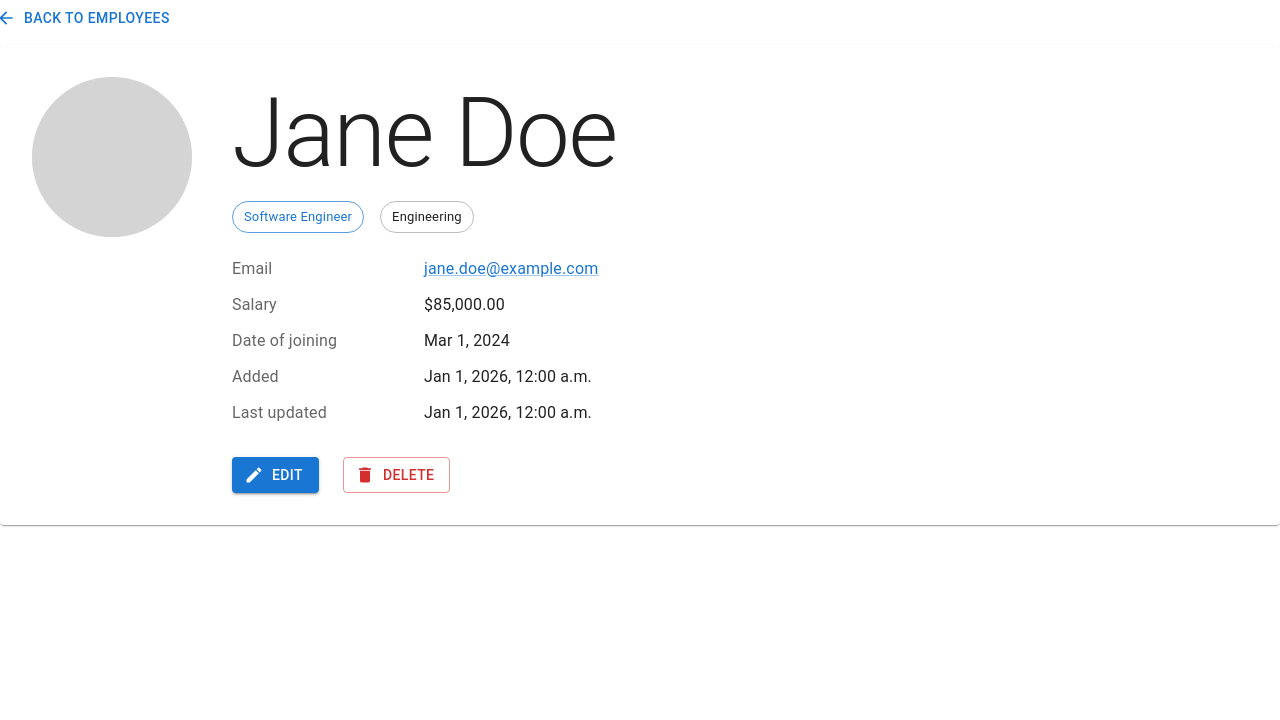
EmployeeDetailsPage: deleting › deletes after confirmation, says so, and returns to the list without a "not found" flash
Click the button "Delete".
click(397, 475)  # box x1=343 y1=456 x2=450 y2=493
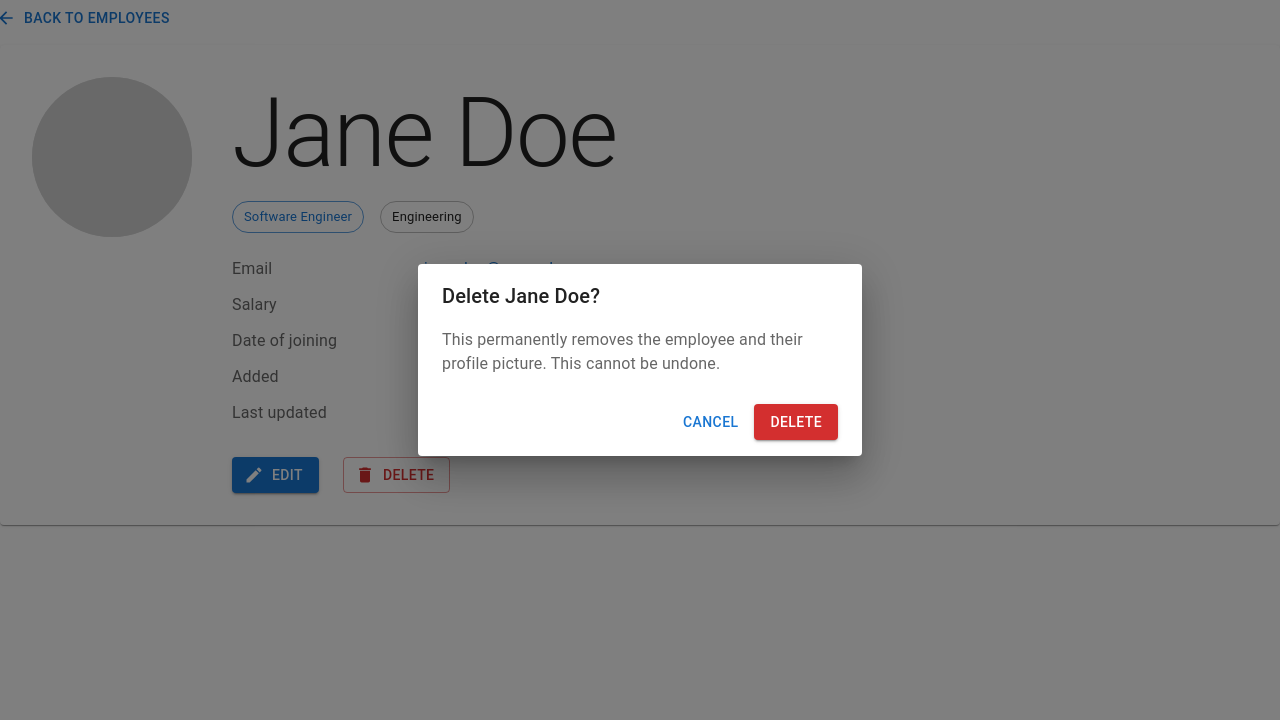
Click the button "Delete".
click(796, 422)  # box x1=754 y1=404 x2=838 y2=440
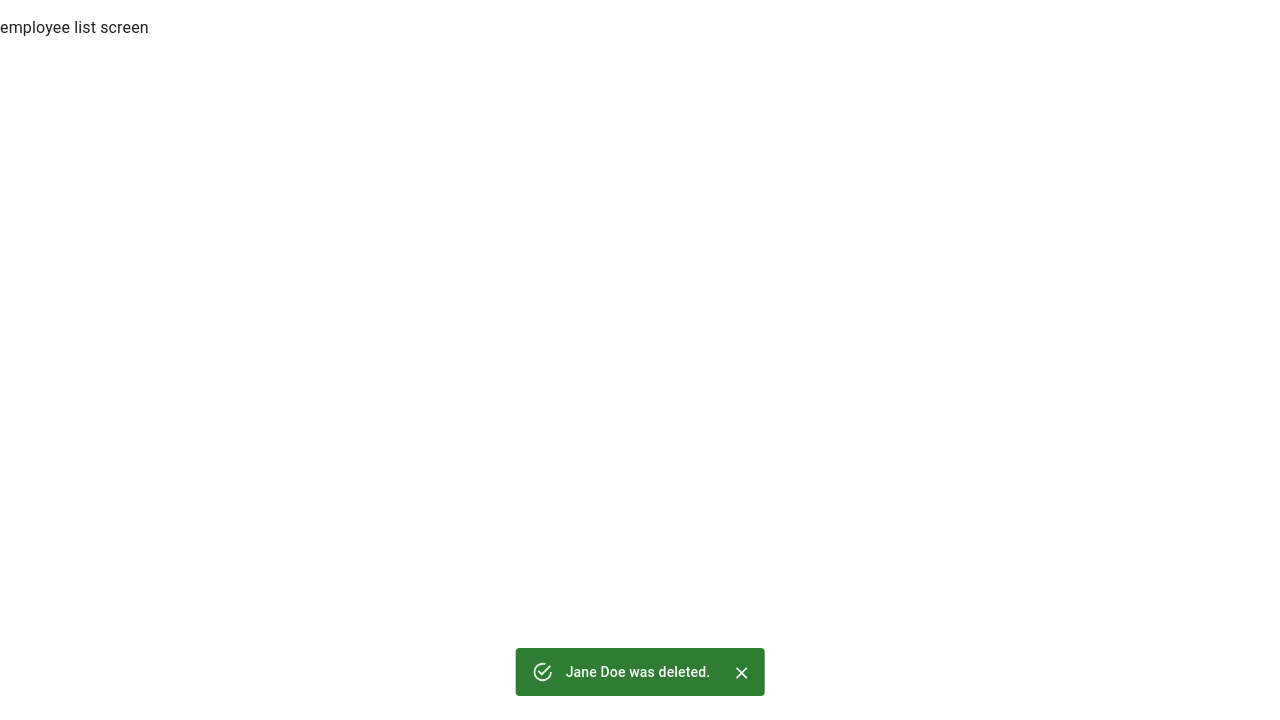
Check: the text "employee list screen" is shown, box x1=0 y1=18 x2=149 y2=37
Check: the text "Jane Doe was deleted." is shown, box x1=566 y1=664 x2=710 y2=680
